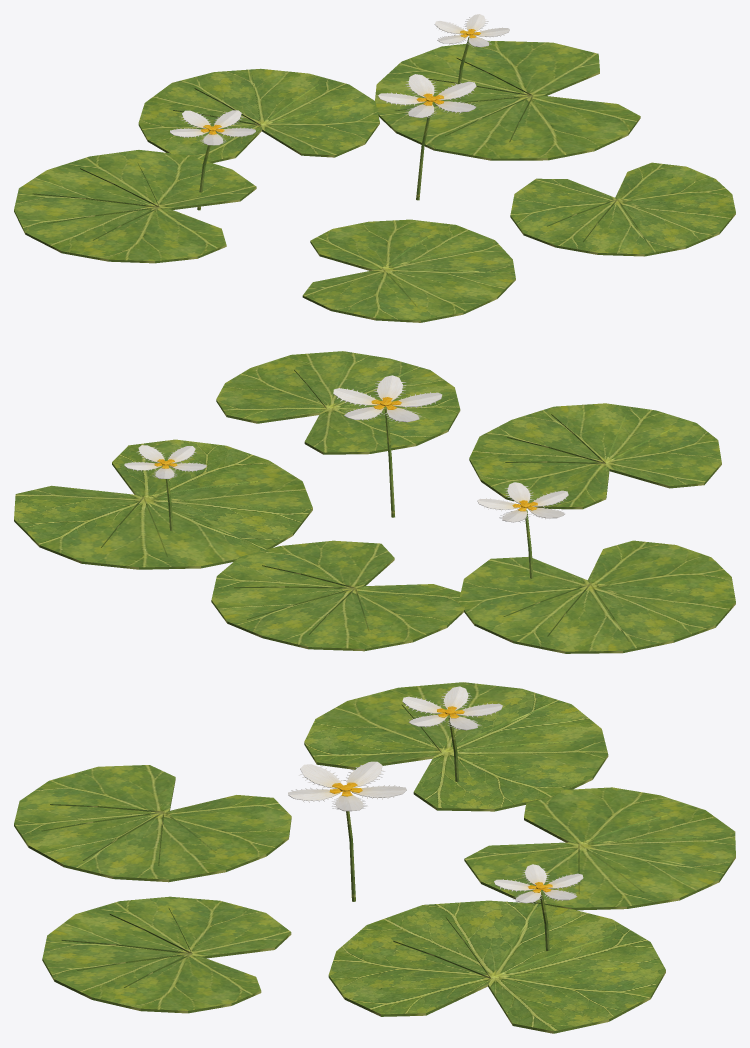
File: SM_Nymphoides_B.fbx
3 views of the same model, one above another, from view 1: azimuth 30°, elevation 25°; view 2: azimuth 150°, elevation 25°; view 3: azimuth 270°, elevation 25° (orthographic). The views are drawn at different scales.
Visible parts, largest first — view 1: SM_Nymphoides_B; view 2: SM_Nymphoides_B; view 3: SM_Nymphoides_B.
Boxes of the visible parts, x1,y1,x2,y2 form: SM_Nymphoides_B: [14, 14, 735, 322]; SM_Nymphoides_B: [14, 351, 735, 653]; SM_Nymphoides_B: [14, 682, 735, 1033].
Size of the model in its own units: 0.3019 by 0.2628 by 0.0492.
1 material, 1 textured.
